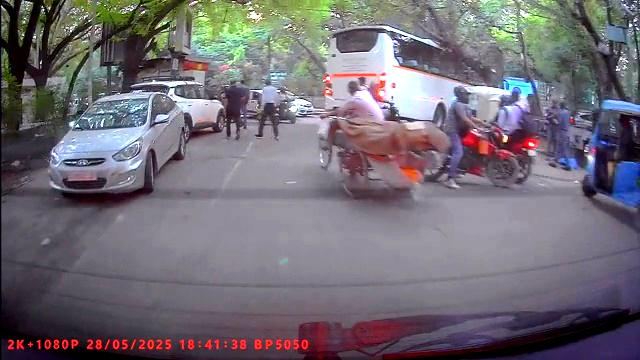motorcycle_with_helmet: (418, 83, 520, 191)
